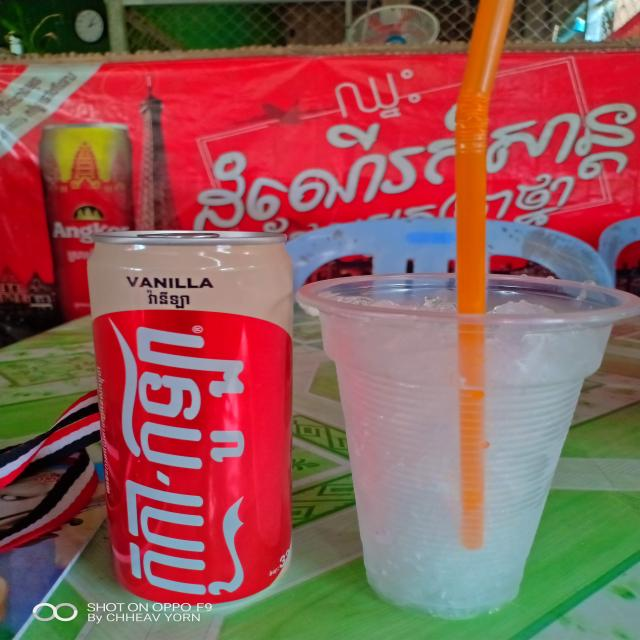1: (104, 319, 264, 605)
Yolov11kh: (319, 55, 437, 131), (140, 287, 200, 314)
